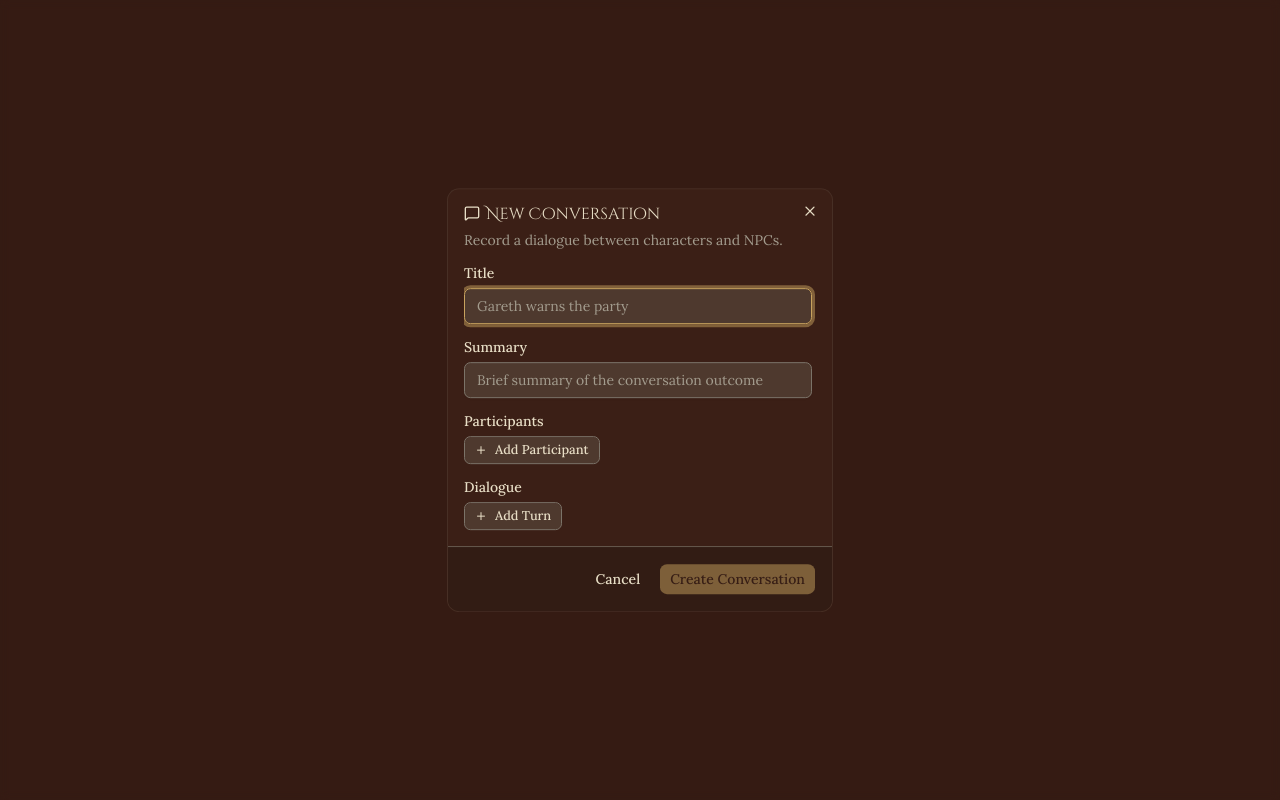
Test: ConversationCreate › shows participant dropdown after clicking add
Click the button "Add Participant": point(532, 450) [464, 436, 600, 464]
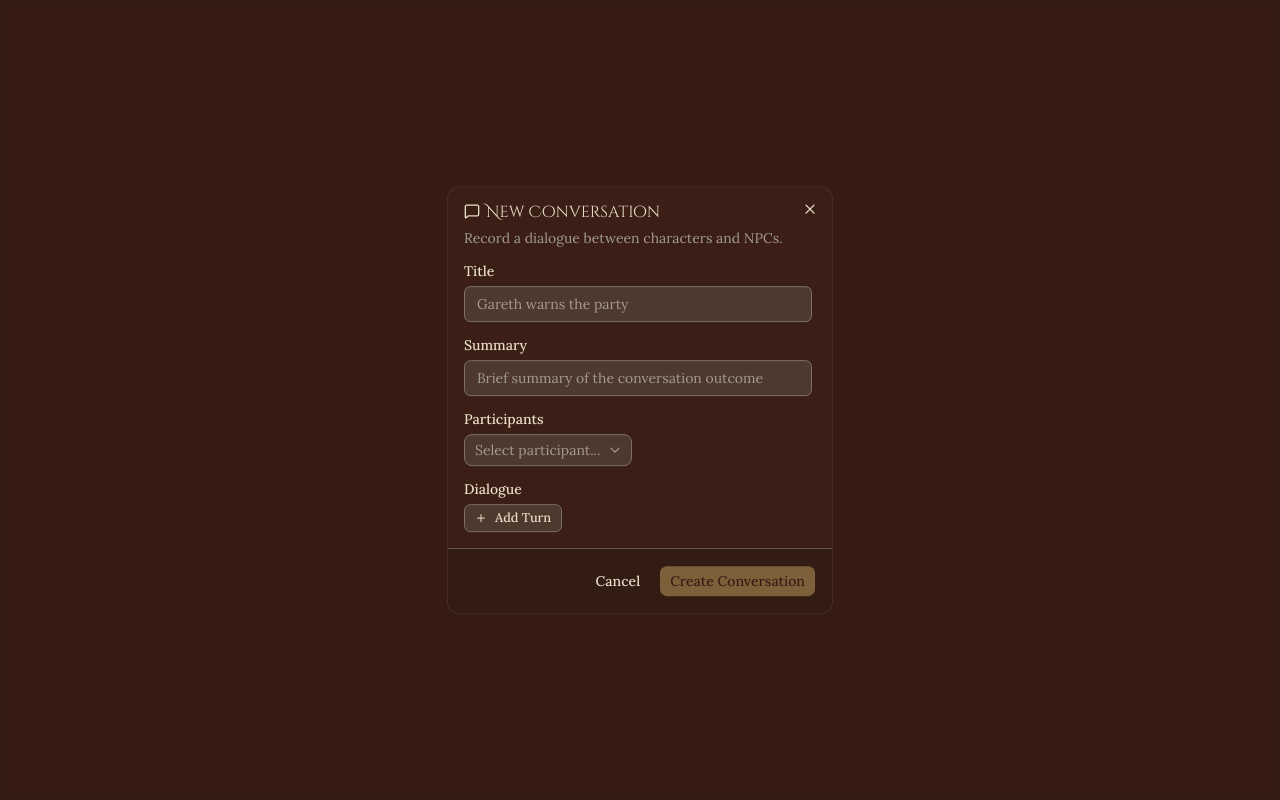
Now the text "Select participant..." is shown, box [475, 440, 600, 460]
